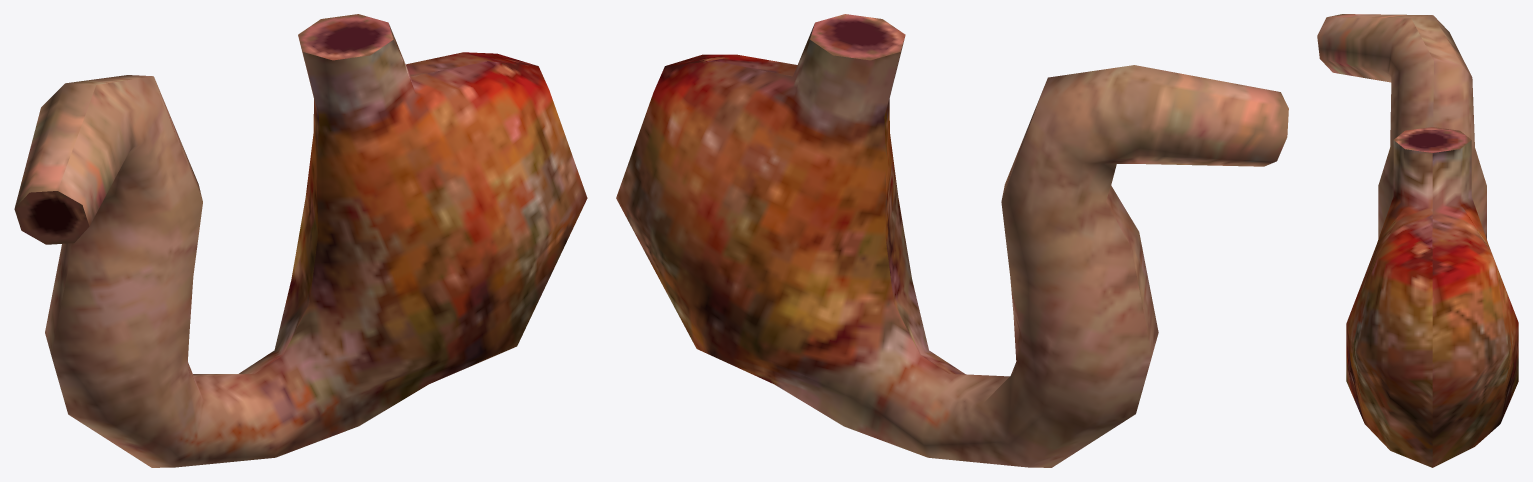
File: eqp_organ_stomach_s02_l1.fbx
The picture shows the model from 3 angles, left to right: view 1: azimuth 30°, elevation 25°; view 2: azimuth 150°, elevation 25°; view 3: azimuth 270°, elevation 25°; orthographic projection. The views are drawn at different scales.
Visible parts, largest first — view 1: mesh_node; view 2: mesh_node; view 3: mesh_node.
Boxes of the visible parts, <box> form: mesh_node: <box>14,14,587,467</box>; mesh_node: <box>616,14,1288,467</box>; mesh_node: <box>1317,14,1518,467</box>.
Bounding box in the file's own units: 0.0734 × 0.0487 × 0.0266.
